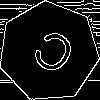C: (24, 27, 79, 85)
